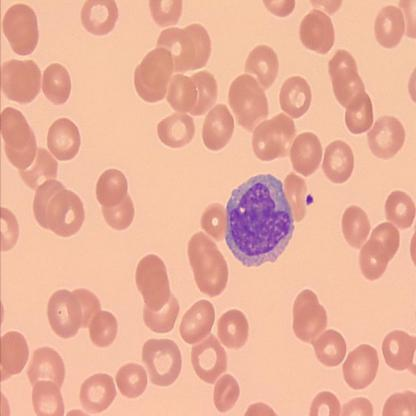Monocyte: (223, 171, 297, 270)
